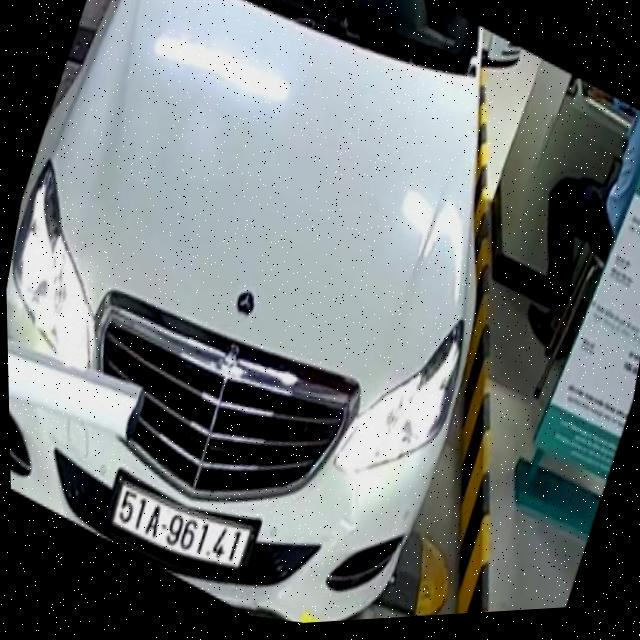car: (0, 0, 549, 640)
plate: (103, 467, 259, 583)
